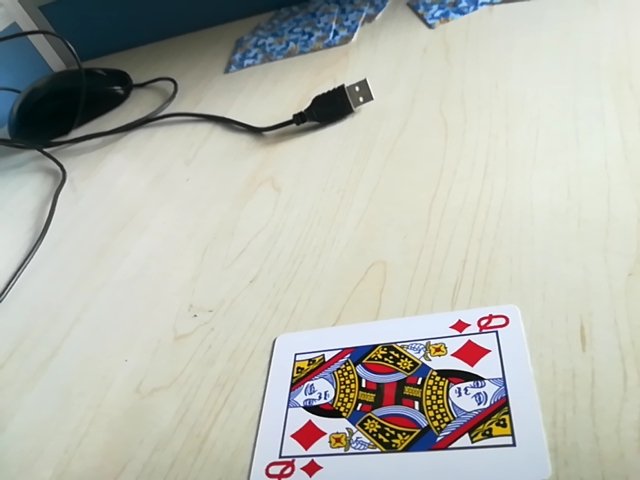fk q: (449, 311, 514, 337), (264, 453, 328, 477)
